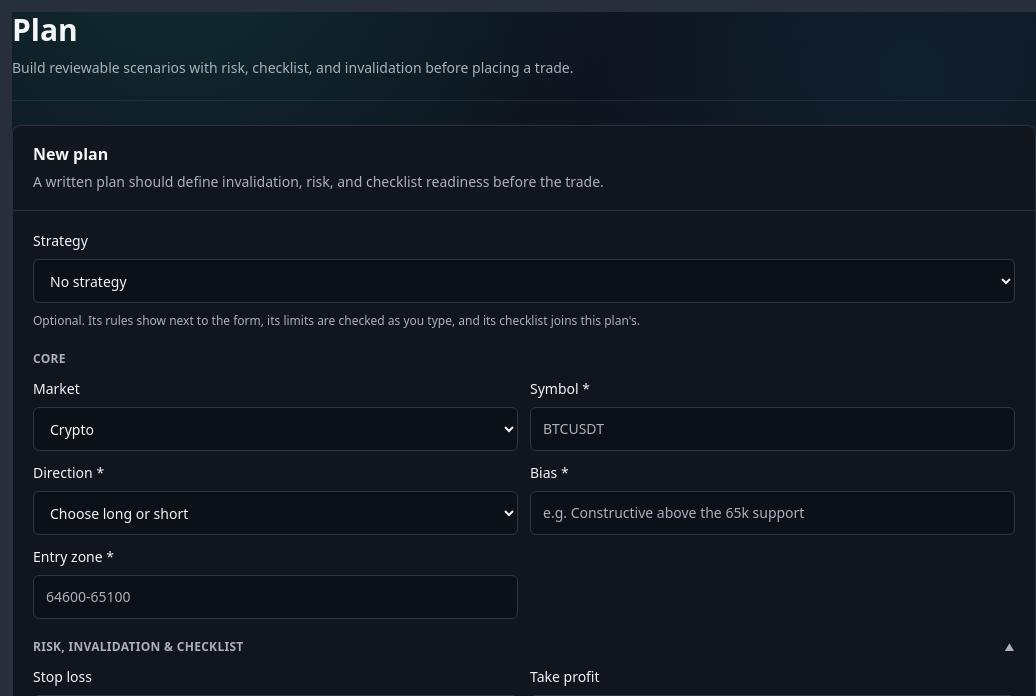
Test: choosing a strategy shows its rules next to the form, read-only › lists the entry, invalidation and risk rules and the limits
Select "Range fade" in the 1st dropdown: (524, 281) 33,259 -> 1015,303
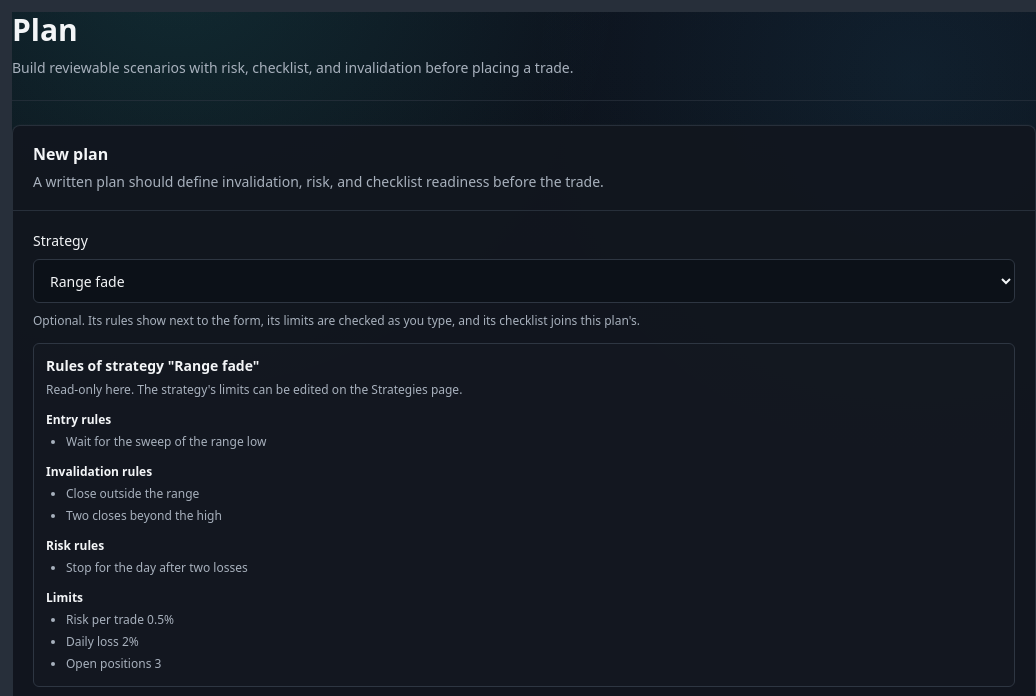
Check: the element "Range fade" shows "Wait for the sweep of the range low", box 66,433 -> 266,450
Check: the element "Range fade" shows "Close outside the range", box 66,485 -> 199,502
Check: the element "Range fade" shows "Two closes beyond the high", box 66,507 -> 222,524
